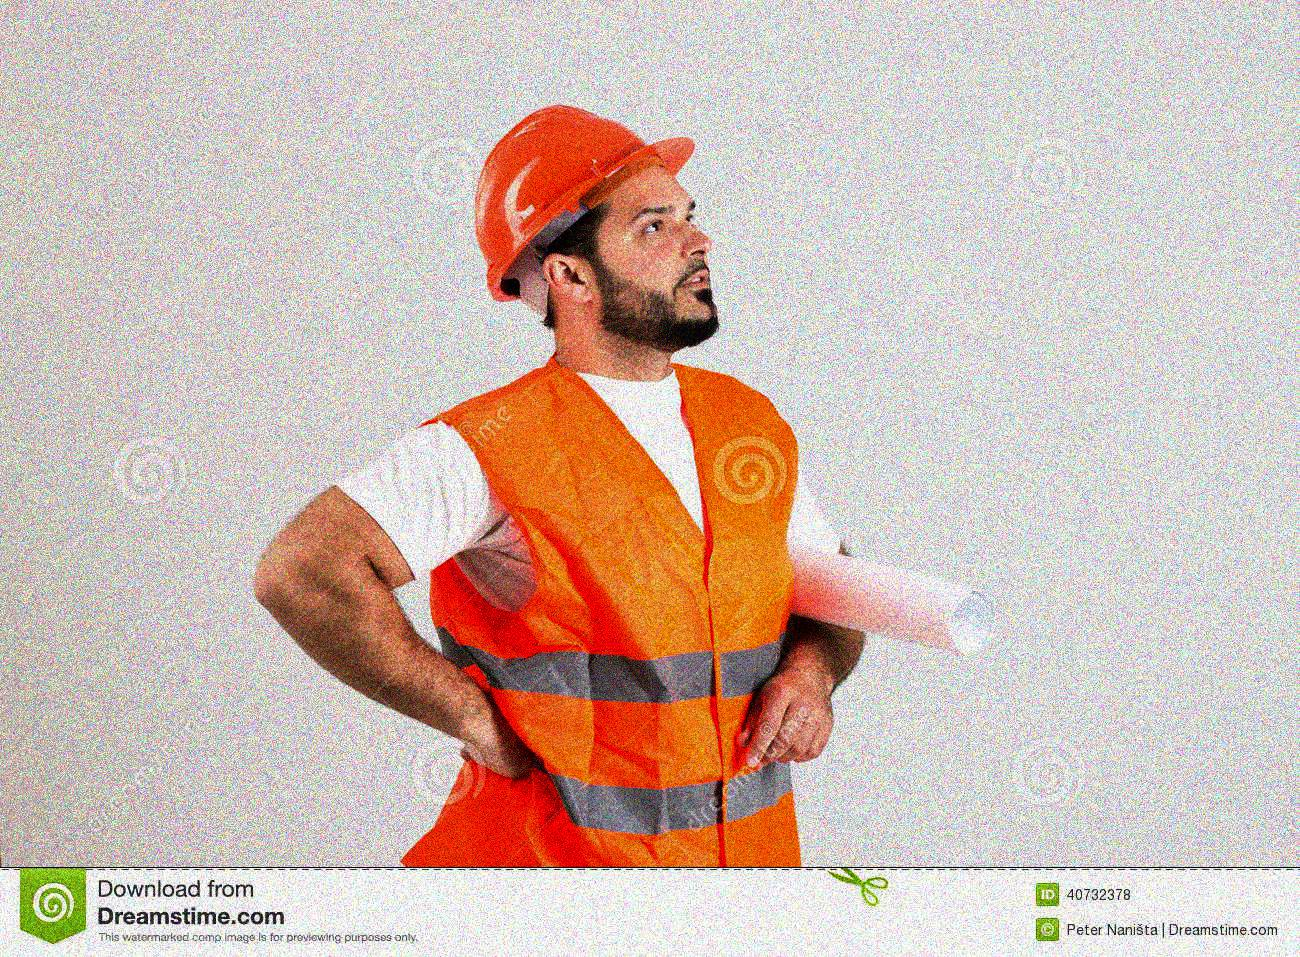helmet: (472, 100, 723, 342)
